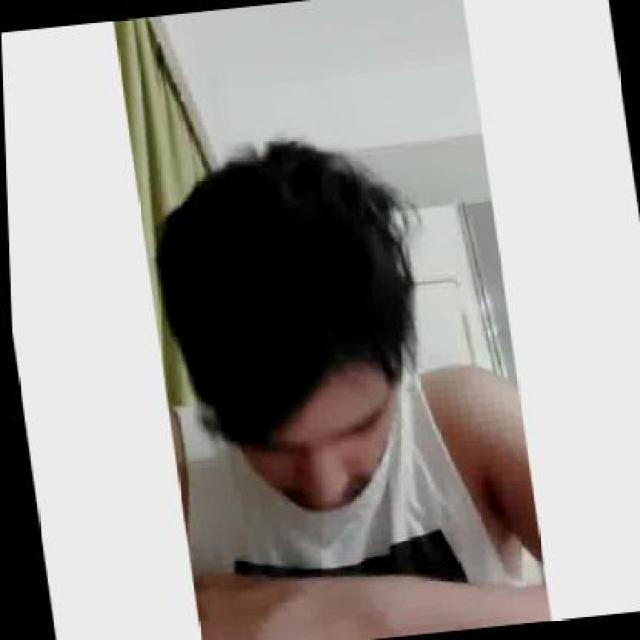inattentif: (138, 126, 424, 528)
